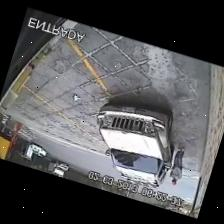person: (170, 148, 184, 184)
